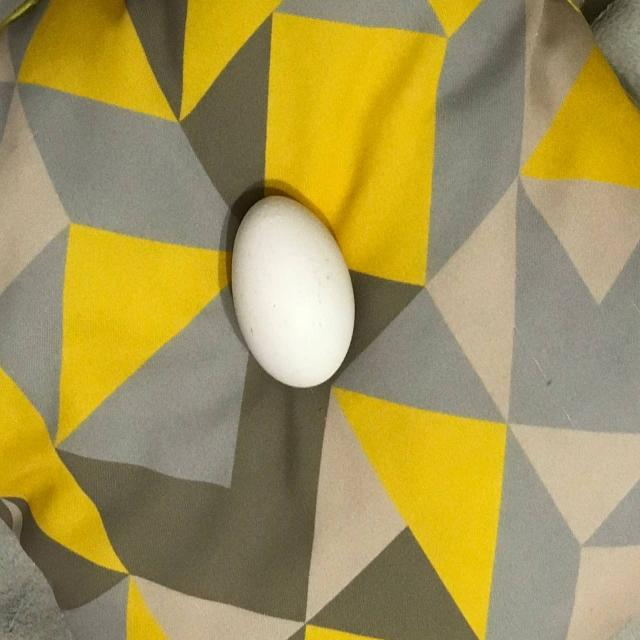egg: (230, 196, 356, 390)
